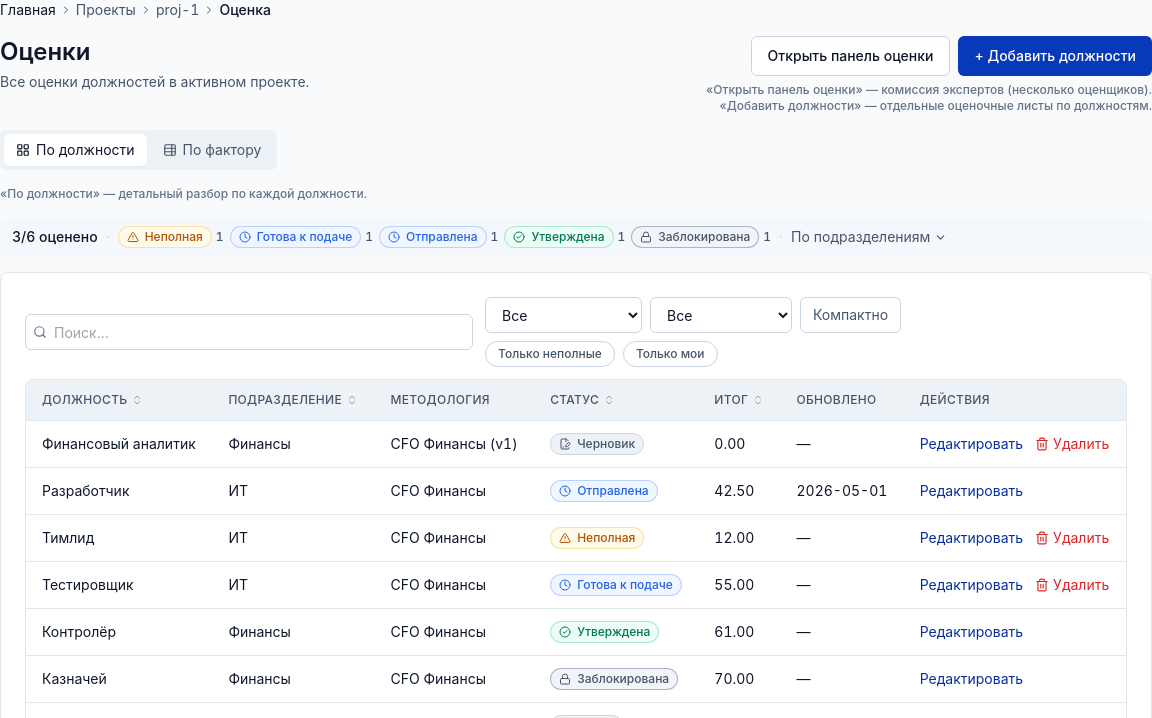
Test: EvaluationListPage — Item 1 (department / add / delete) › FE-2: Add-positions dialog shows ONLY candidates without a non-archived eval for the version
Click the button with test id "add-positions-open": click(1055, 56) [958,36,1151,76]
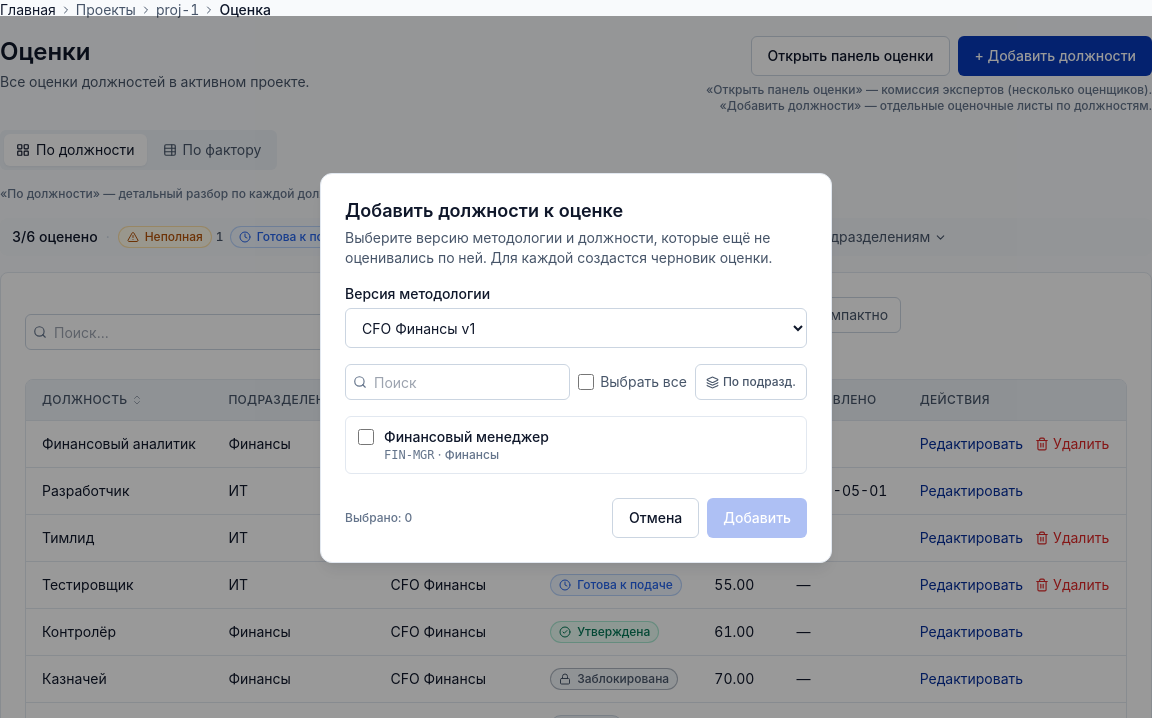
Expected: the element with test id "add-positions-list" is shown, [345,416,807,474]
Expected: the text "Финансовый менеджер FIN-MGR · Финансы" is shown, [358,428,549,462]
Expected: the label with test id "add-positions-row-FIN-MGR" shows "Финансы", [445,447,499,462]
